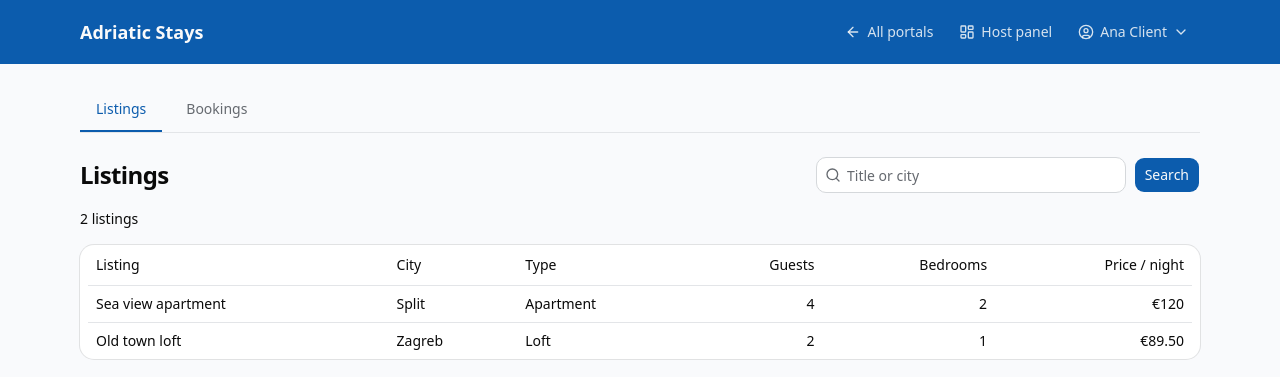
Test: HostListingsPage › searches by title or city through the URL
The image size is (1280, 377).
Step 1. Type " Zagreb " into the search field named "Search listings" → (983, 175), box [841, 159, 1125, 191]
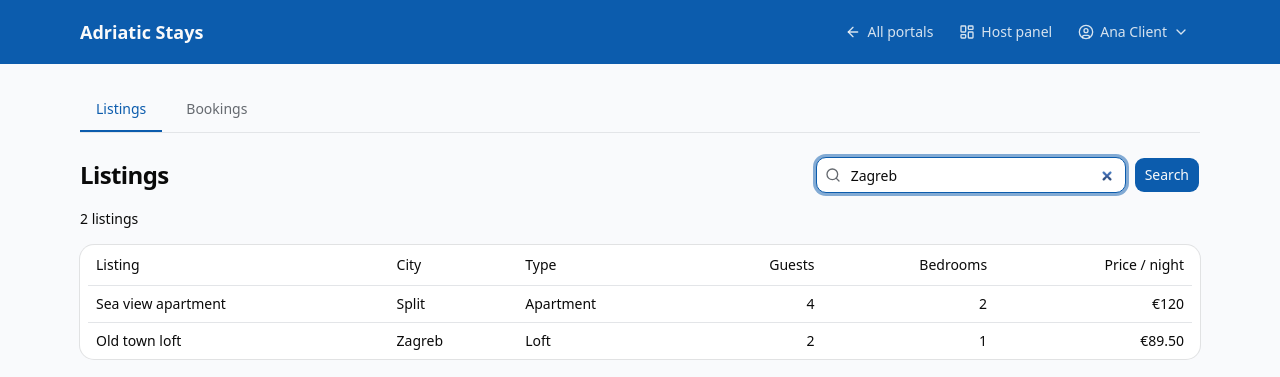
Step 2. Click the button "Search" → (1167, 175), box [1134, 157, 1200, 193]
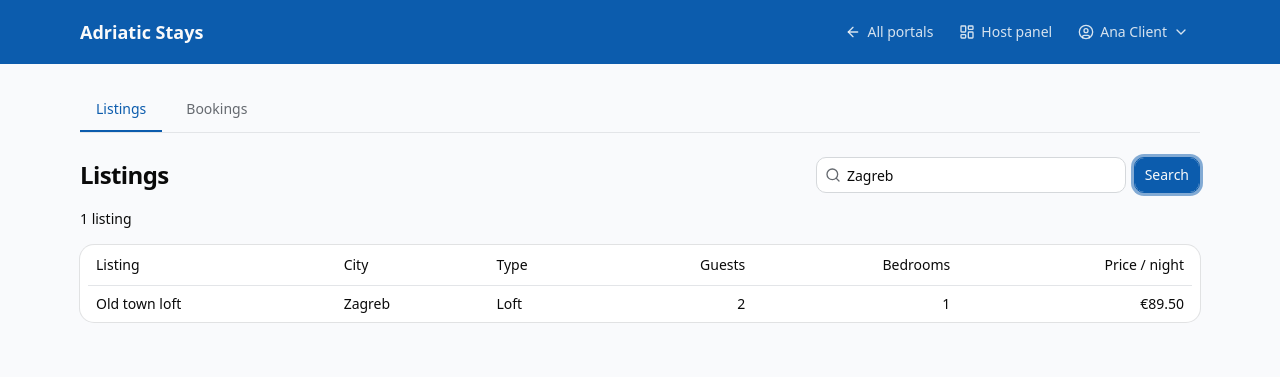
Expected: the text "1 listing" is shown, [80, 209, 132, 228]
